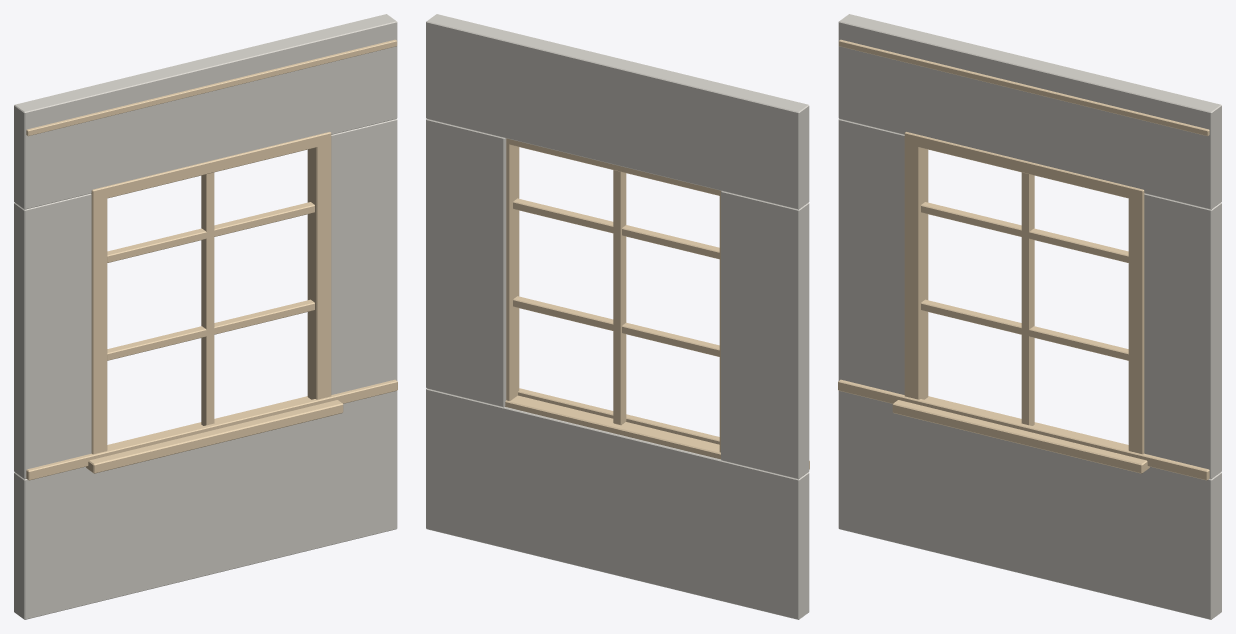
The model's file is jelly-friends-playroom-wall-window-bay-2m-3f16aff9__27630.glb.
3 renders of one model, left to right at view 1: azimuth 30°, elevation 25°; view 2: azimuth 150°, elevation 25°; view 3: azimuth 330°, elevation 25°, orthographic.
Visible parts, largest first — view 1: wall-window-bay-2m; view 2: wall-window-bay-2m; view 3: wall-window-bay-2m.
Part boxes in pixels (left/top/right/bottom): wall-window-bay-2m: left=14, top=14, right=397, bottom=619; wall-window-bay-2m: left=426, top=14, right=809, bottom=619; wall-window-bay-2m: left=838, top=14, right=1221, bottom=619.
Bounding box in the file's own units: 2 × 2.6 × 0.172.
